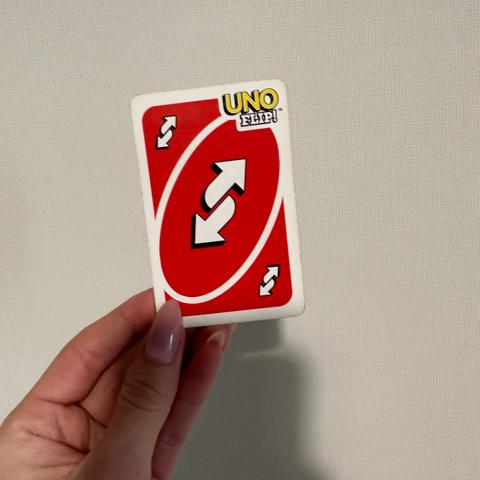3_red: (189, 158, 252, 249), (153, 113, 183, 150), (255, 261, 280, 299)
